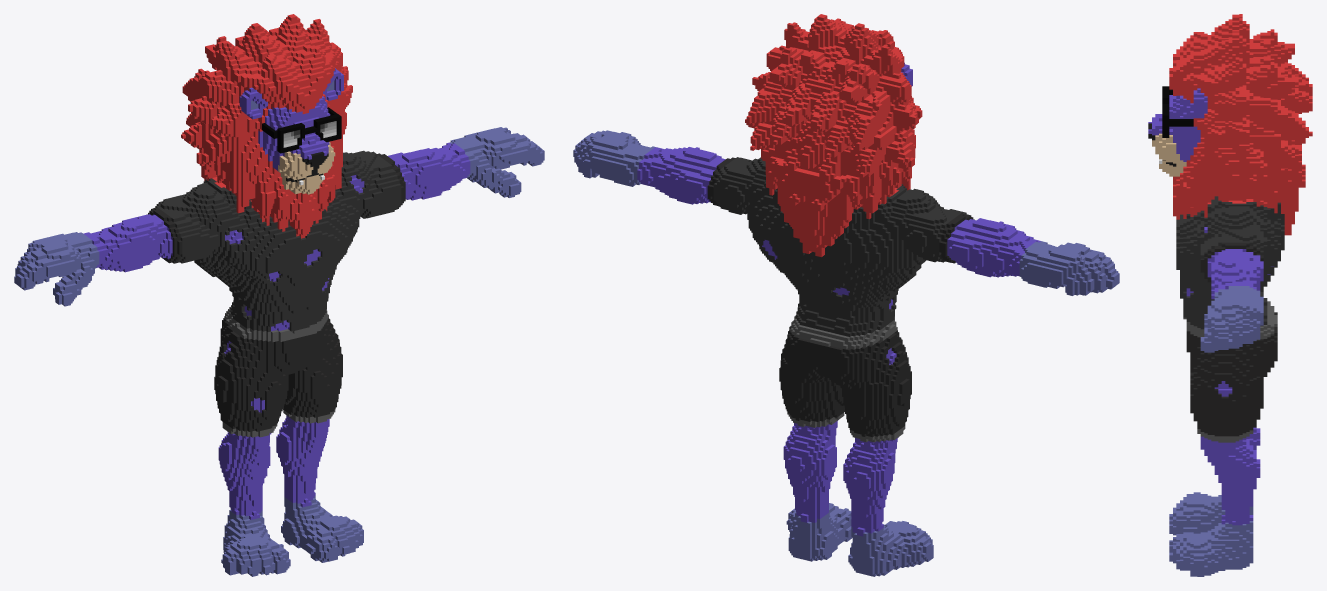
The model's file is 3-De9qlLIm.glb.
3 views of the same model, side by side, from view 1: azimuth 30°, elevation 25°; view 2: azimuth 150°, elevation 25°; view 3: azimuth 270°, elevation 25° (orthographic). The views are drawn at different scales.
Parts seen in each view (by area): view 1: standard; view 2: standard; view 3: standard.
Boxes of the visible parts, bbox=[...] form: standard: bbox=[14, 14, 544, 576]; standard: bbox=[573, 14, 1119, 576]; standard: bbox=[1148, 14, 1312, 576].
Size of the model in its own units: 17.2 by 16.5 by 4.7.
Materials: 5 (5 with a texture image).
